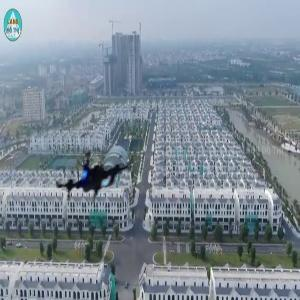drone: (56, 131, 139, 214)
